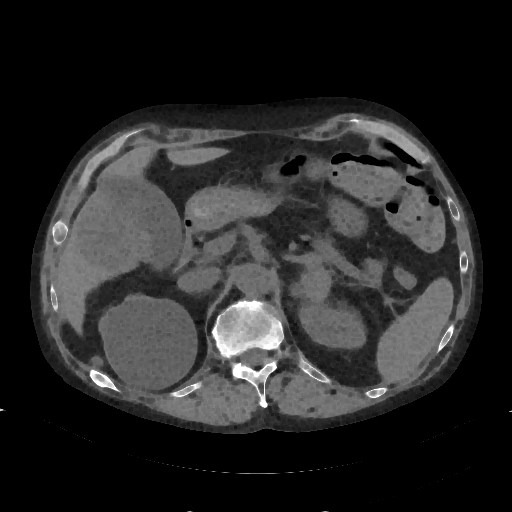Lesion: (97, 297, 198, 394)
